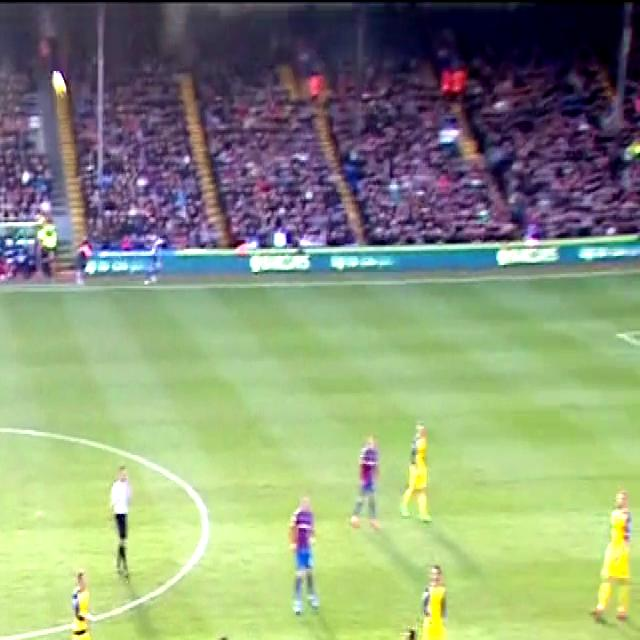ball: (47, 59, 69, 105)
referee: (104, 464, 144, 590)
soccer-player: (588, 485, 640, 632), (282, 491, 336, 624), (396, 416, 441, 526), (345, 424, 390, 533), (415, 556, 464, 640), (58, 572, 102, 640), (190, 631, 250, 640)
